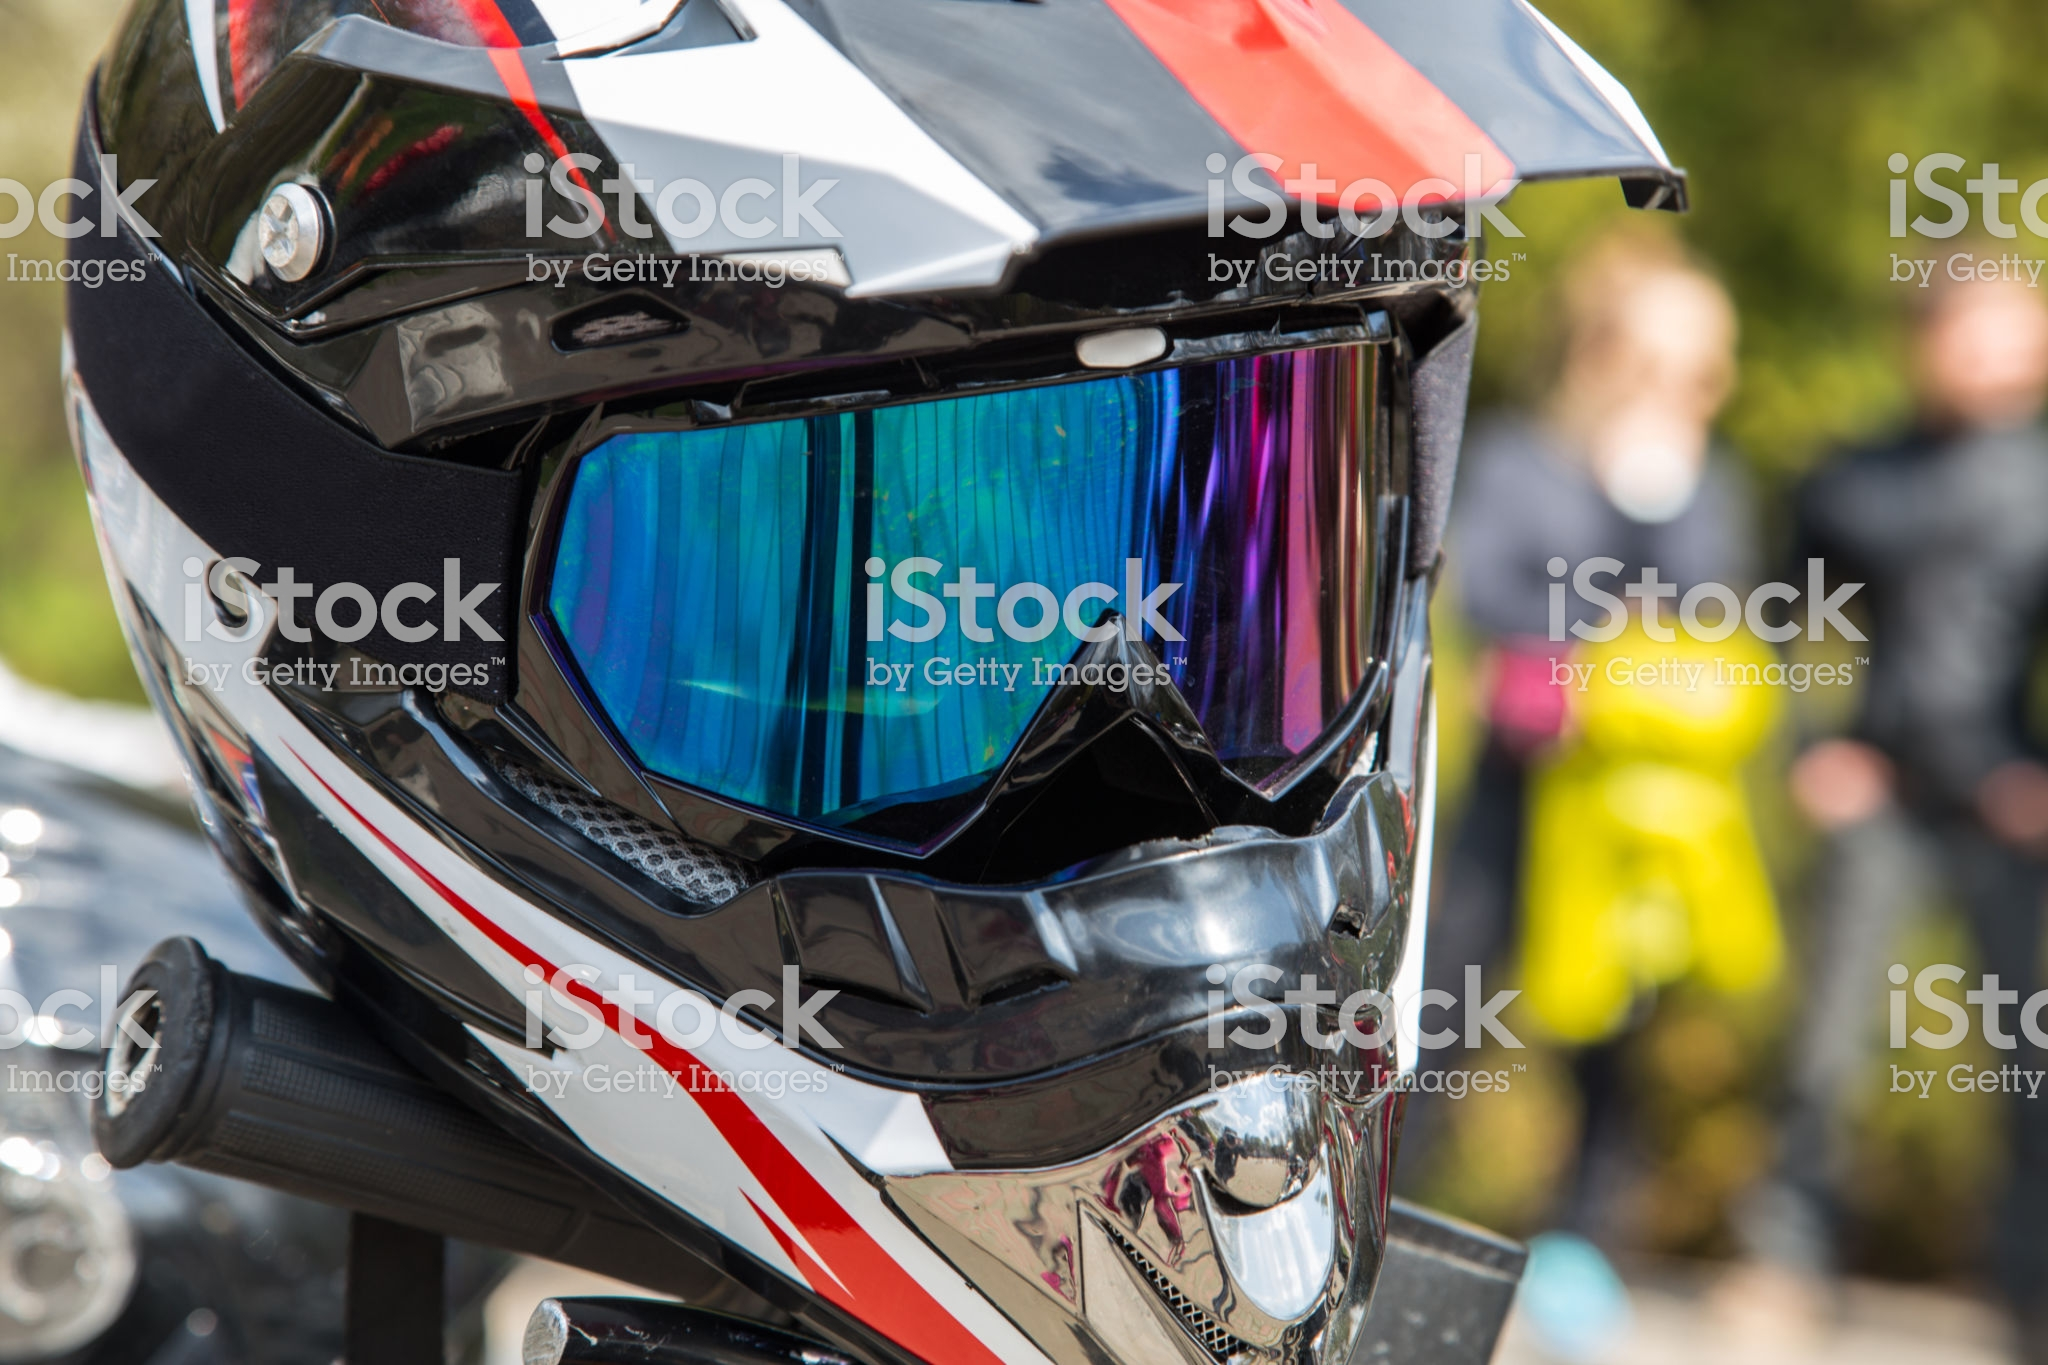helmet: (94, 5, 1577, 1350)
